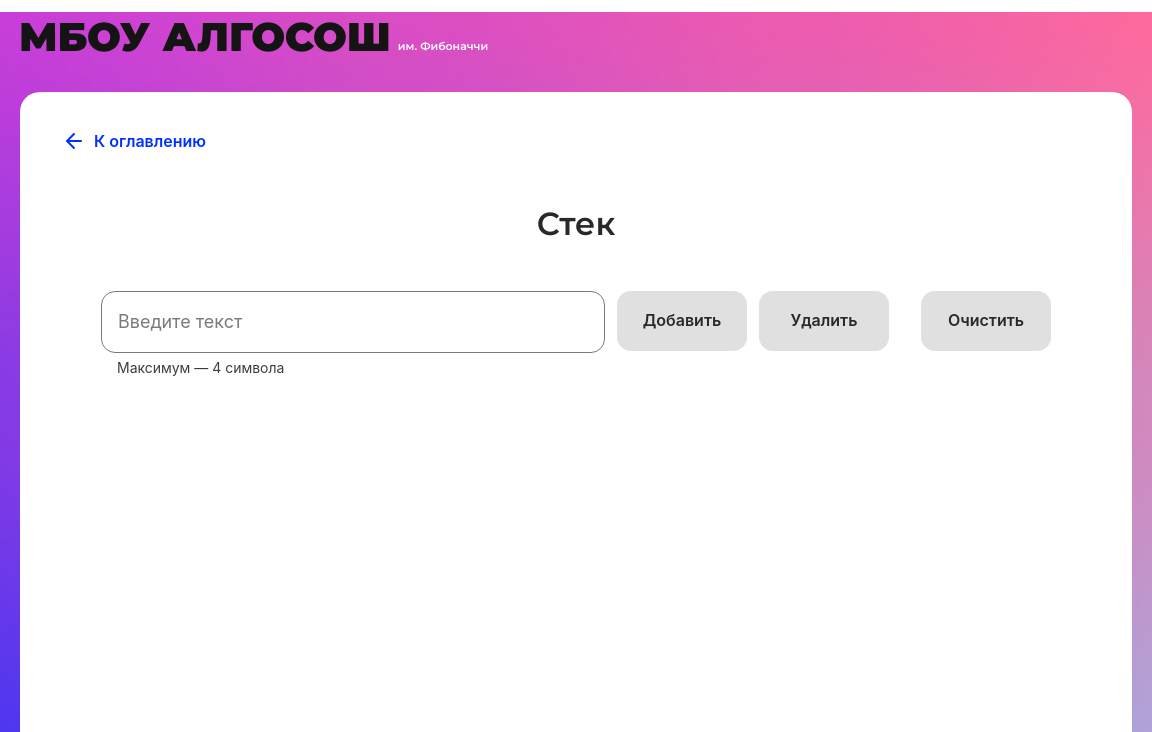
Test case: stack page › should animate adding new element
The image size is (1152, 732).
In the field with test id "stack-input": (353,322) [101, 291, 605, 353], type "t"
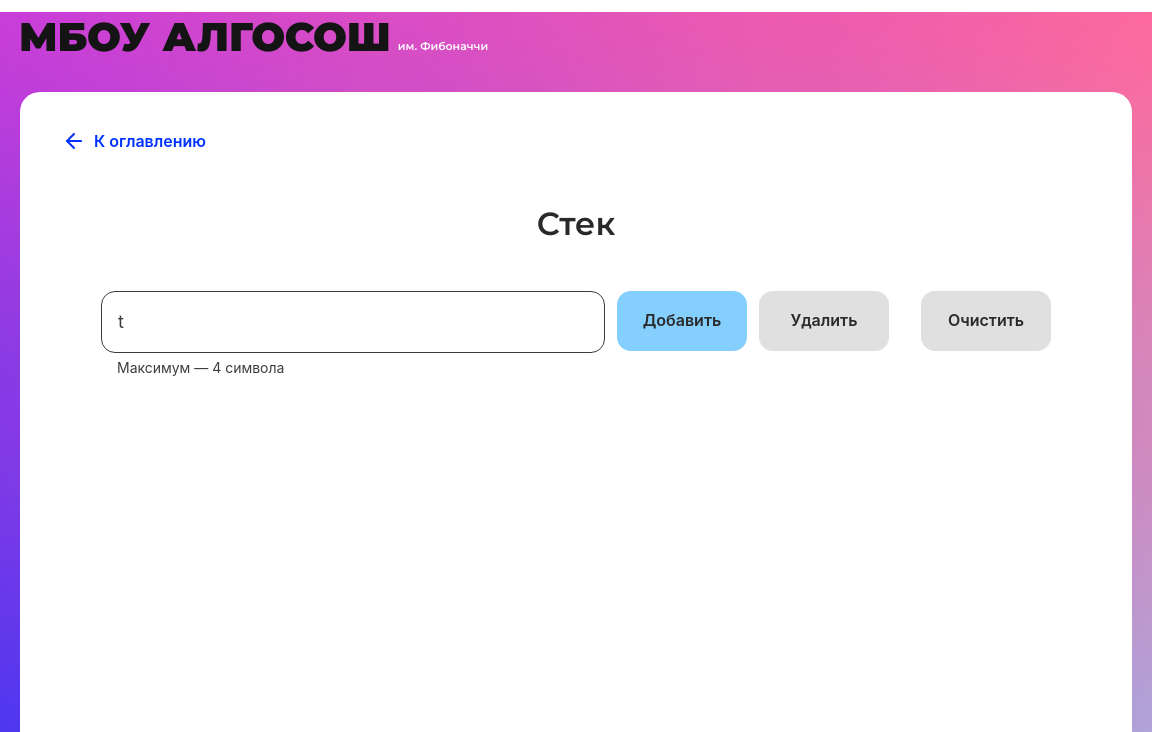
Click the button with test id "stack-submit": (682,321) [617, 291, 747, 351]
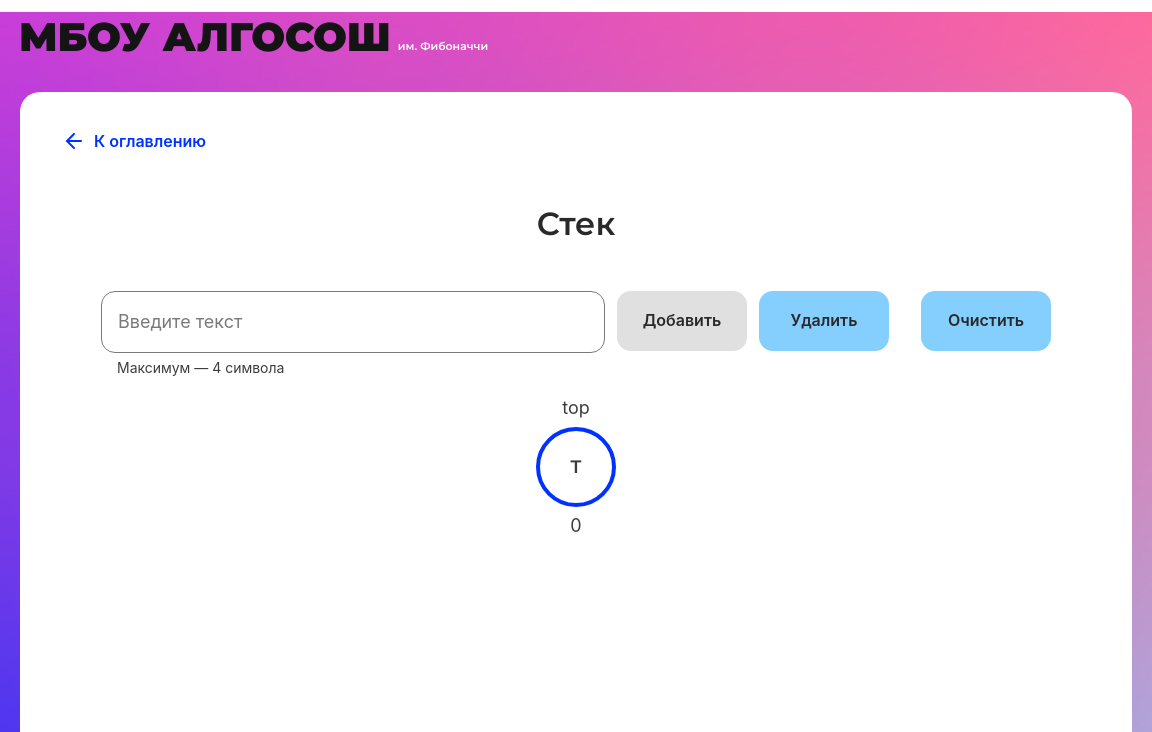
Now the text "t" is shown, box [571, 456, 581, 478]
